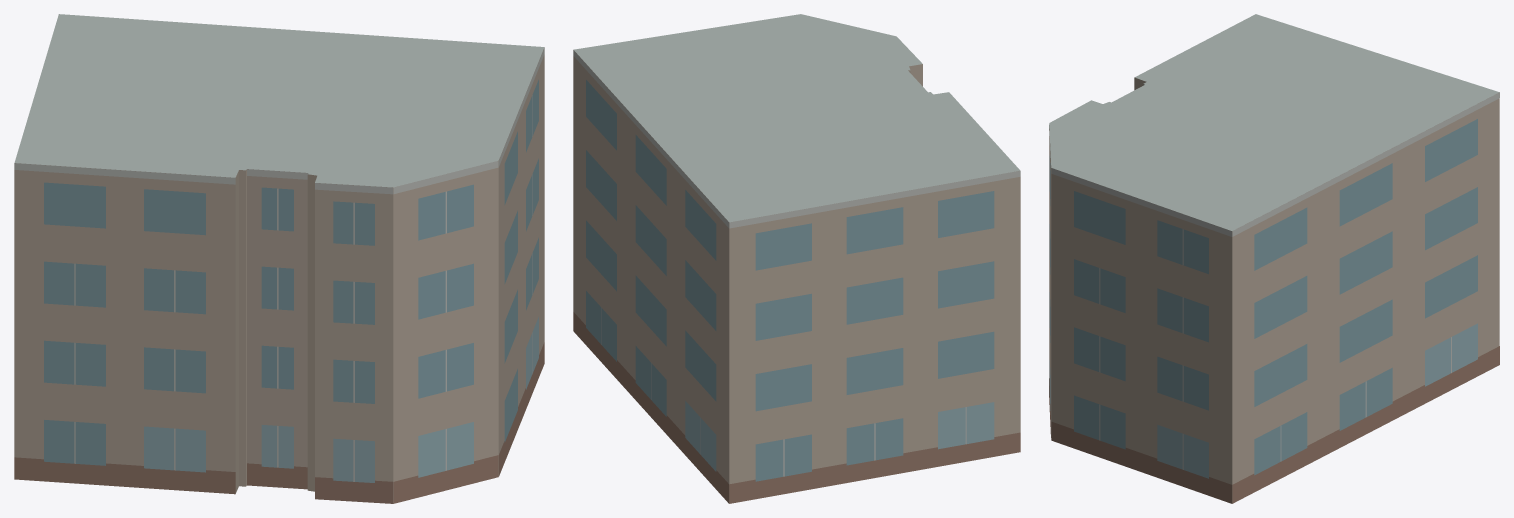
The model's file is survey-upis-32809985.glb.
The picture shows the model from 3 angles, left to right: view 1: azimuth 30°, elevation 25°; view 2: azimuth 150°, elevation 25°; view 3: azimuth 270°, elevation 25°; orthographic projection. The views are drawn at different scales.
Parts seen in each view (by area): view 1: survey-upis-32809985.tmp; view 2: survey-upis-32809985.tmp; view 3: survey-upis-32809985.tmp.
Boxes of the visible parts, bbox=[...] form: survey-upis-32809985.tmp: bbox=[14, 14, 544, 503]; survey-upis-32809985.tmp: bbox=[573, 14, 1020, 503]; survey-upis-32809985.tmp: bbox=[1049, 14, 1499, 503].
Size of the model in its own units: 19.22 by 11.25 by 16.86.
